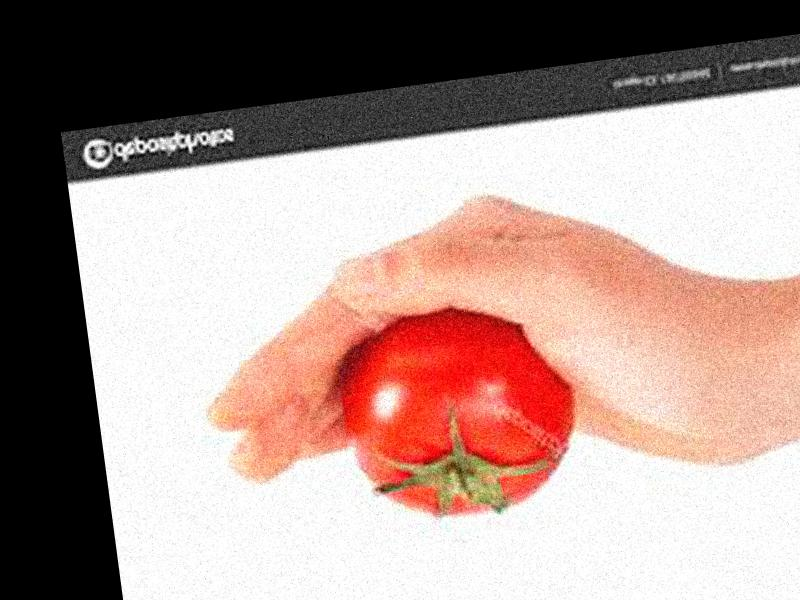Tomato: (339, 298, 588, 526)
